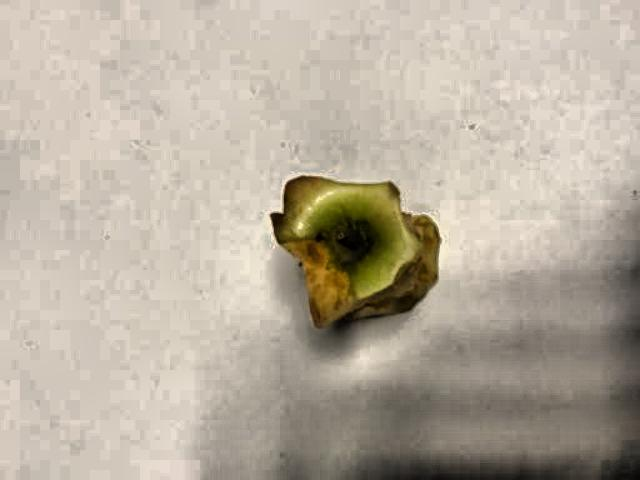Almennt: (263, 158, 448, 338)
